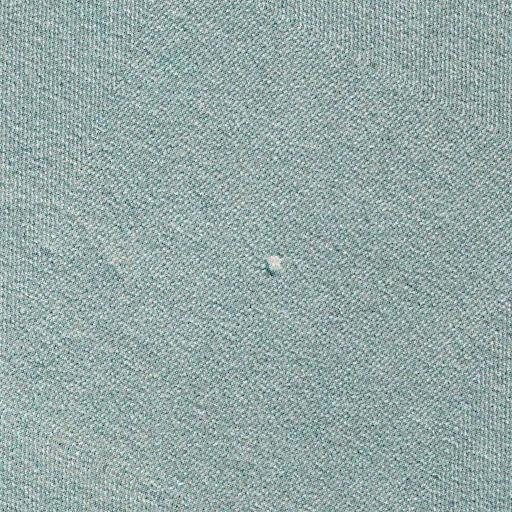knot: (249, 244, 301, 287)
